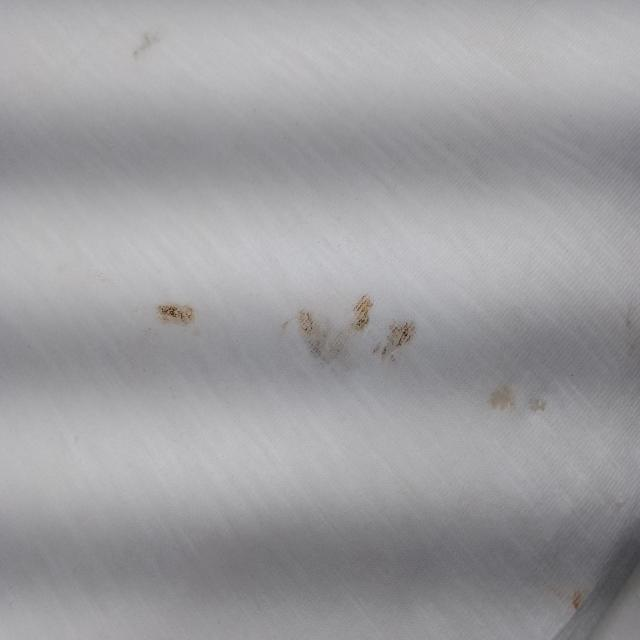Hole: (130, 252, 564, 456), (71, 2, 251, 119)
